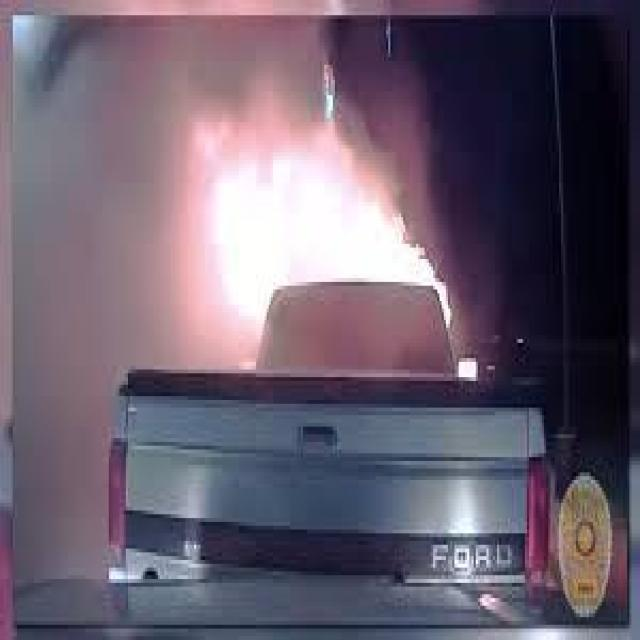fire: (197, 112, 459, 313)
smoke: (24, 21, 180, 358)
